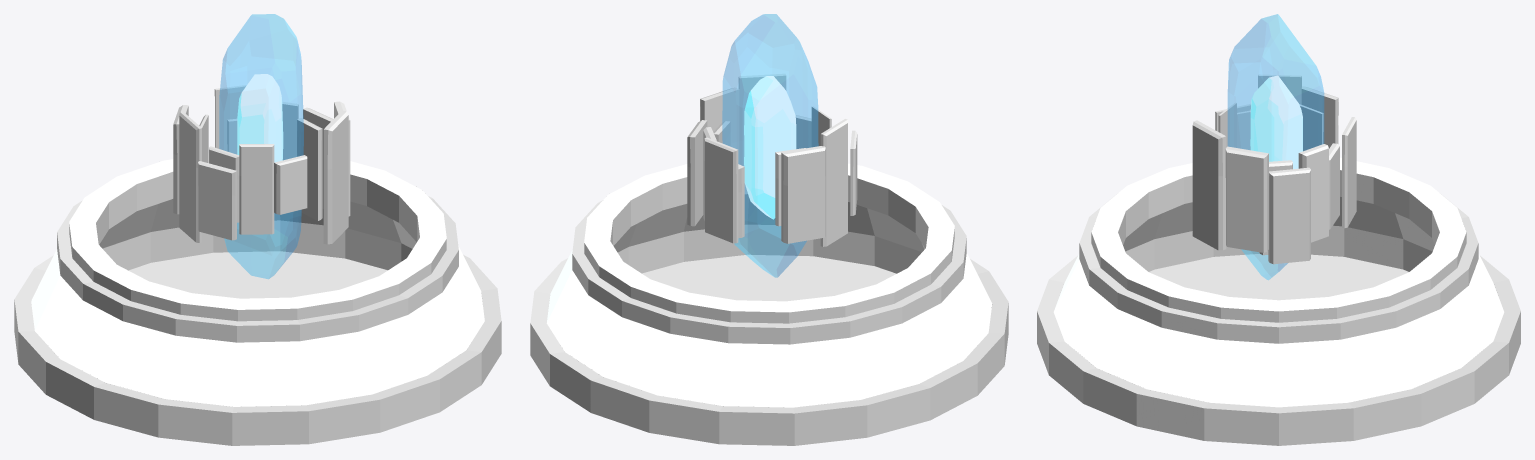
The model's file is crystal_structure-compressed.glb.
3 renders of one model, left to right at view 1: azimuth 30°, elevation 25°; view 2: azimuth 150°, elevation 25°; view 3: azimuth 270°, elevation 25°, orthographic.
Visible parts, largest first — view 1: crystarBase_ground_base, crystarBase_float_metal, crystarBase_float_bright_crystal; view 2: crystarBase_ground_base, crystarBase_float_metal, crystarBase_float_bright_crystal; view 3: crystarBase_ground_base, crystarBase_float_metal, crystarBase_float_bright_crystal.
Part boxes in pixels (box(x1,y1,x2,y2)): crystarBase_ground_base: box(14, 153, 501, 445); crystarBase_float_metal: box(173, 85, 350, 244); crystarBase_float_bright_crystal: box(219, 14, 303, 278); crystarBase_ground_base: box(530, 163, 1008, 445); crystarBase_float_metal: box(687, 73, 857, 246); crystarBase_float_bright_crystal: box(722, 14, 818, 277); crystarBase_ground_base: box(1037, 157, 1520, 445); crystarBase_float_metal: box(1192, 74, 1356, 264); crystarBase_float_bright_crystal: box(1228, 14, 1323, 279).
Size of the model in its own units: 4.62 by 3.44 by 4.62.
